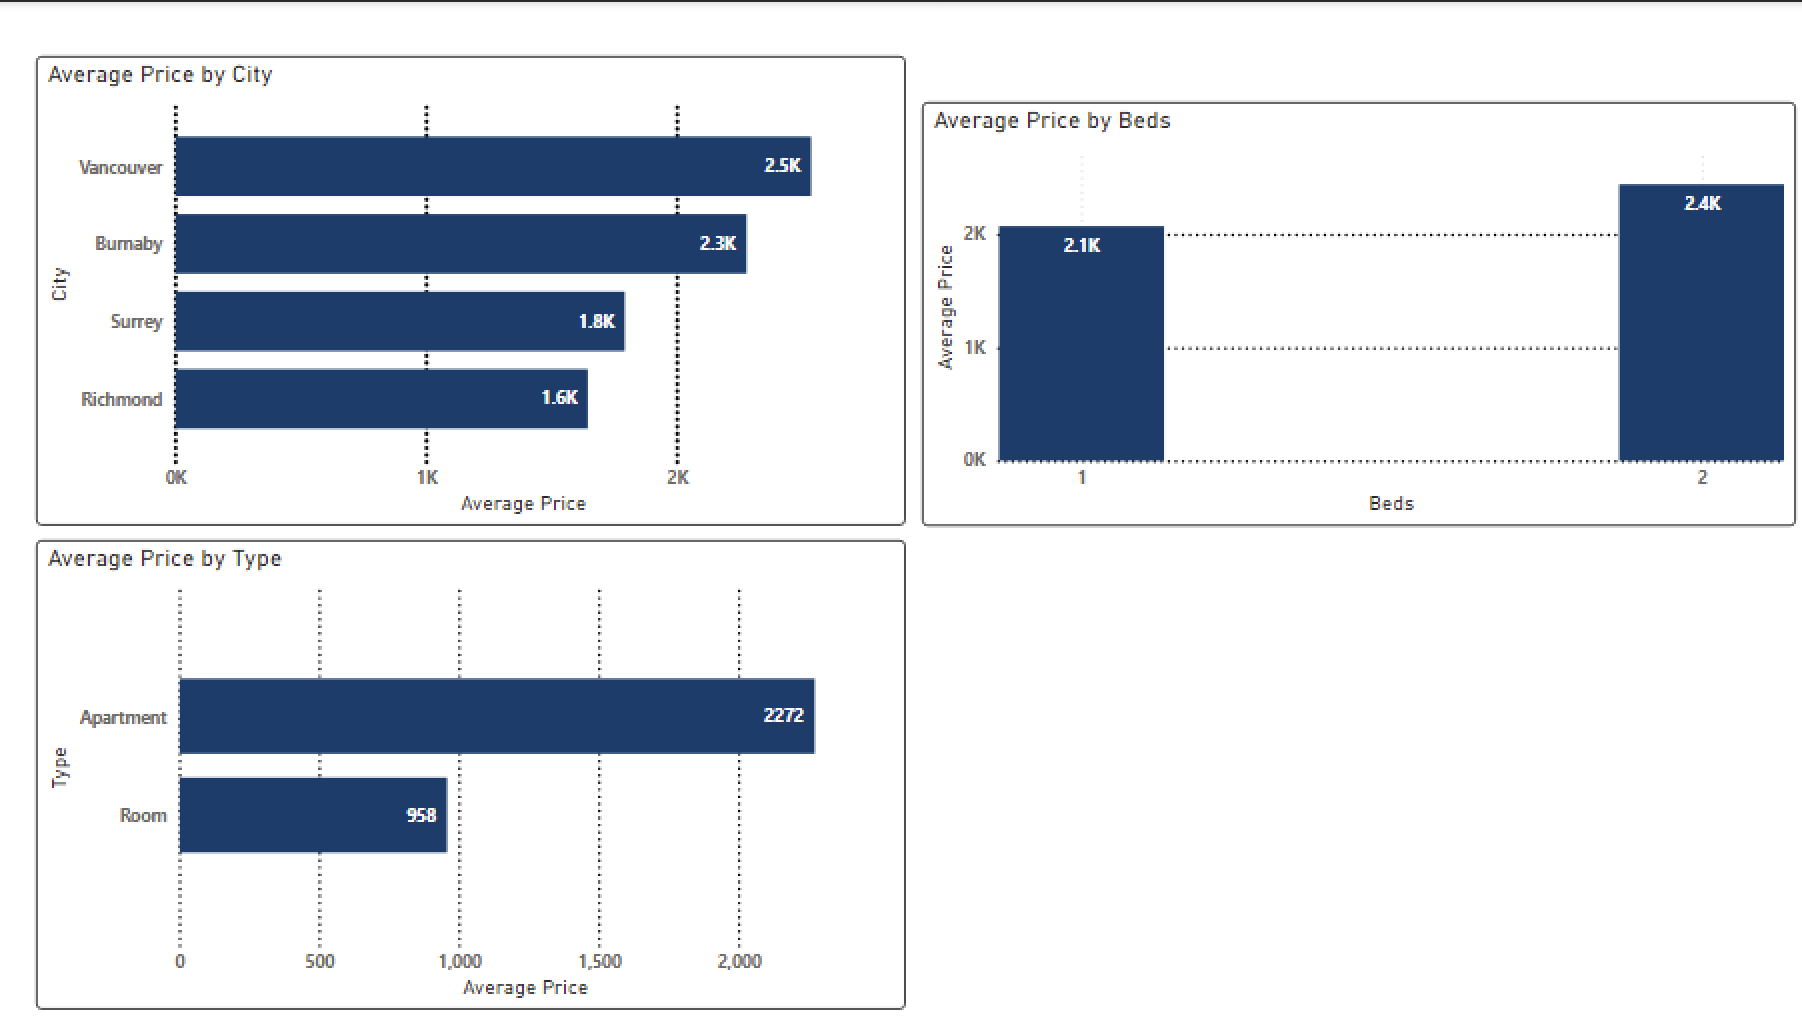

Layout of this report page (visuals, bound fields, positions):
{"tool":"powerbi","page":{"name":"Page 1","canvas":[1280,720],"ordinal":0},"visuals":[{"type":"clusteredBarChart","fields":{"Category":["housing_data.City"],"Y":["housing_data.Average Price"]},"box":[26.8,38.1,613.2,331.3],"z":0},{"type":"clusteredColumnChart","fields":{"Category":["housing_data.Beds"],"Y":["housing_data.Average Price"]},"box":[651.3,70.5,616,298.9],"z":1},{"type":"clusteredBarChart","fields":{"Category":["housing_data.Type"],"Y":["housing_data.Average Price"]},"box":[27,379,613,331],"z":2}]}

Visuals, with their boxes in screenshot pixels (x1, y1, x2, y2), scaled from the page's 1280x720 canvas onto the 1802x1018 screenshot:
clusteredBarChart - housing_data.City x housing_data.Average Price: {"x1": 38, "y1": 54, "x2": 901, "y2": 522}
clusteredColumnChart - housing_data.Beds x housing_data.Average Price: {"x1": 917, "y1": 100, "x2": 1784, "y2": 522}
clusteredBarChart - housing_data.Type x housing_data.Average Price: {"x1": 38, "y1": 536, "x2": 901, "y2": 1004}
